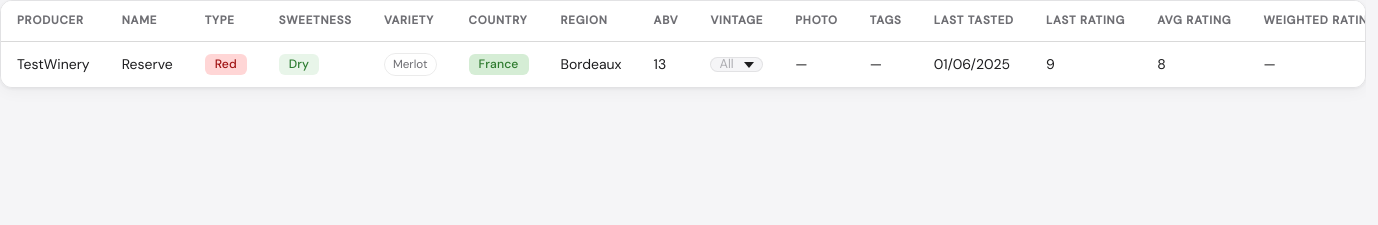
Test: selecting All restores full-set values
Click the button "All" at point(737, 65), box [710,57,763,72]
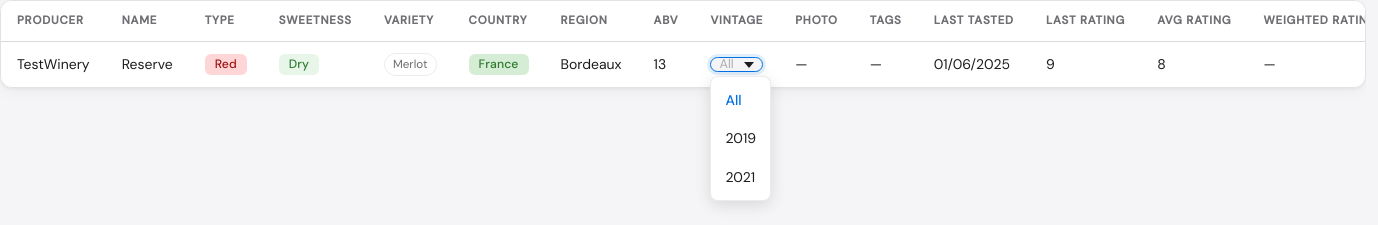
Press the mouse on the list item "2019" at point(741, 138), box [725,129,756,147]
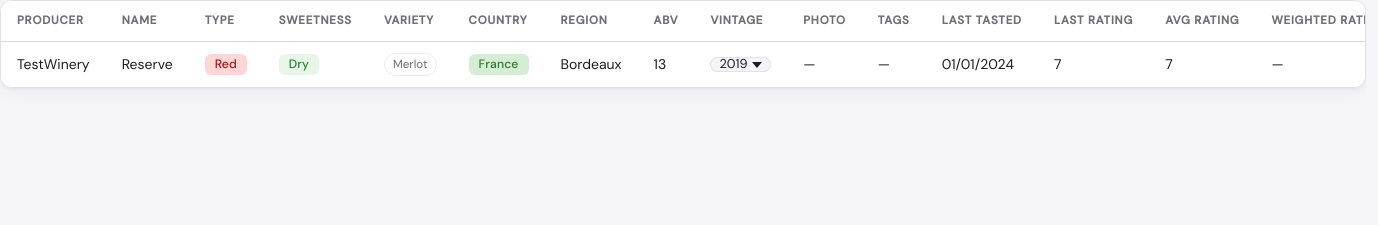
# trigger now shows '2019', click it to reopen
Click the button "2019" at point(741, 65), box [710,57,771,72]
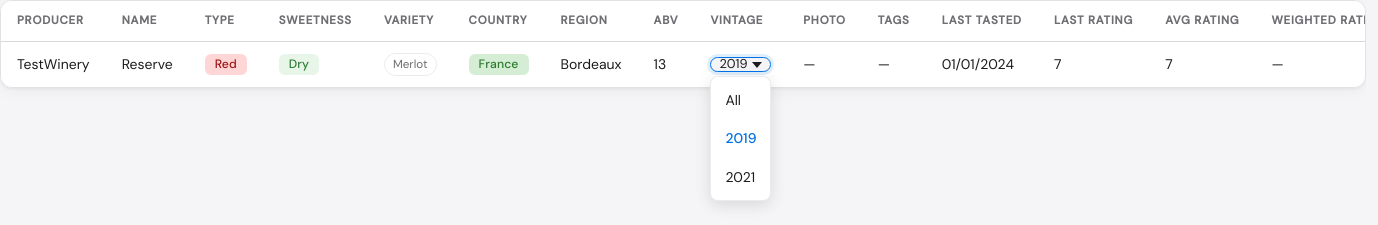
Press the mouse on the list item "All" at point(733, 100), box [725,91,741,109]
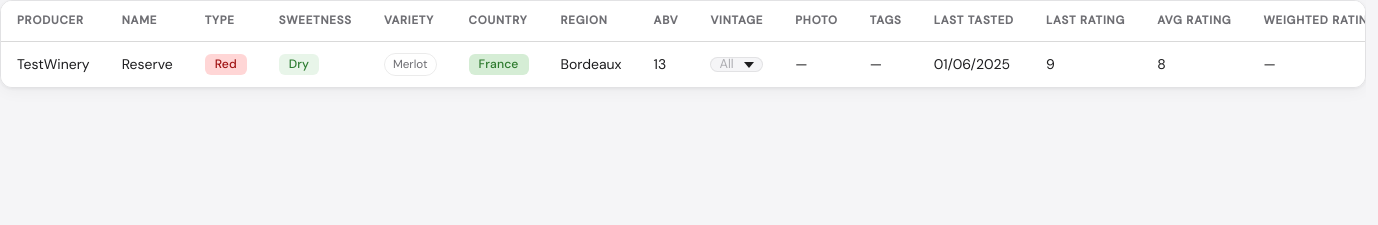
Expected: the text "01/06/2025" is shown, [918,42,1030,87]
